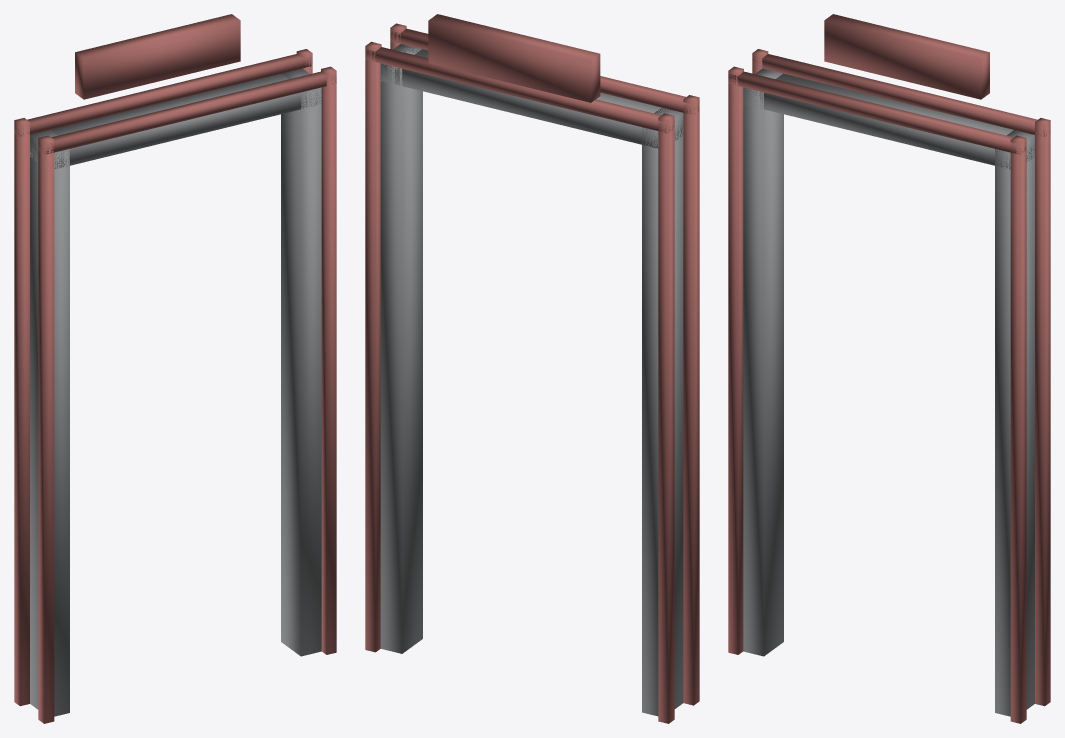
Rendered from doorway_emergency_exit_w106_h240_d16.glb.
3 views of the same model, side by side, from view 1: azimuth 30°, elevation 25°; view 2: azimuth 150°, elevation 25°; view 3: azimuth 330°, elevation 25° (orthographic). The views are drawn at different scales.
Parts seen in each view (by area): view 1: world; view 2: world; view 3: world.
Part boxes in pixels (x1,y1,x2,y2): world: [14, 14, 336, 723]; world: [365, 14, 699, 723]; world: [728, 14, 1050, 723].
Size of the model in its own units: 1.34 by 2.76 by 0.2939.
